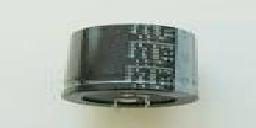Electrolytic-Capacitor: (62, 24, 200, 116)
